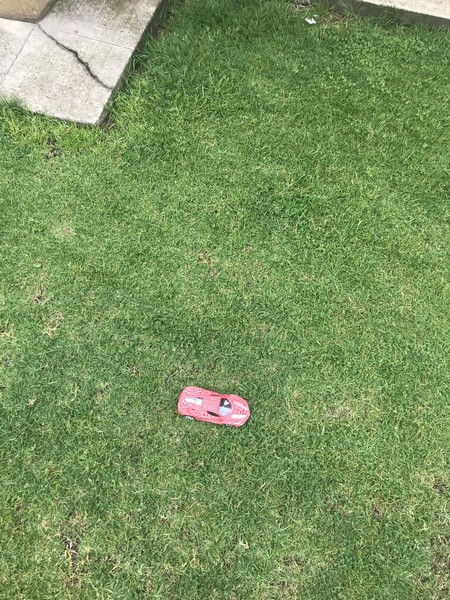RC: (175, 384, 252, 430)
